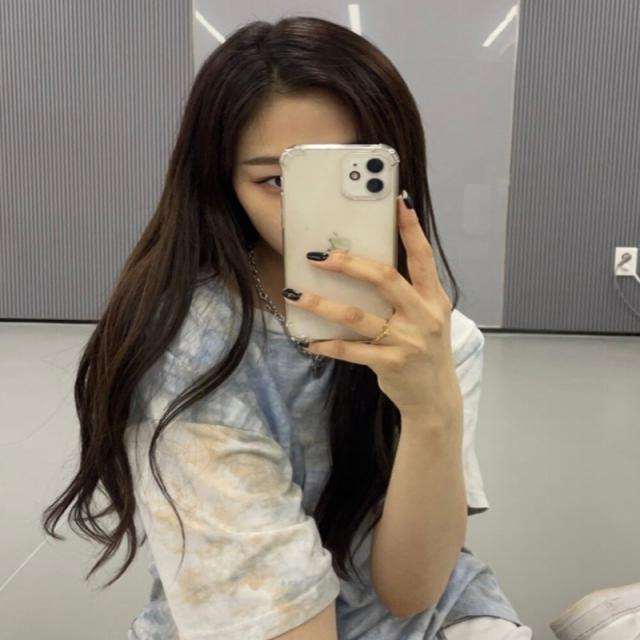phone: (281, 144, 398, 342)
